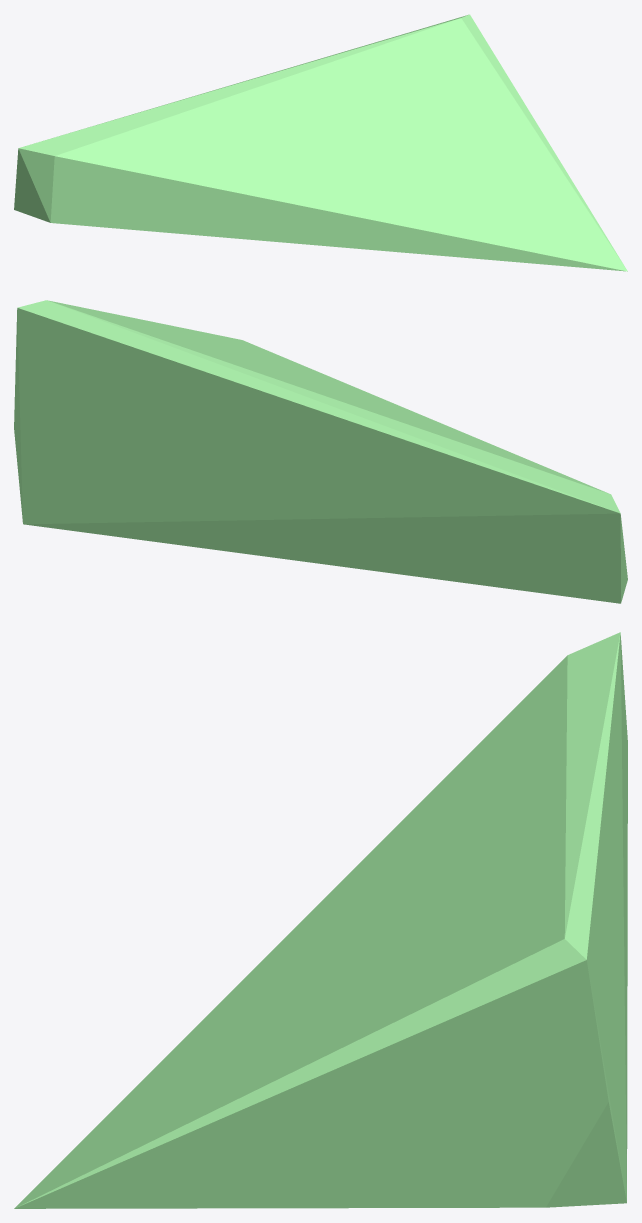
Rendered from UMIRobot_robot_base_coll_12.dae.
3 views of the same model, one above another, from view 1: azimuth 30°, elevation 25°; view 2: azimuth 150°, elevation 25°; view 3: azimuth 270°, elevation 25° (orthographic). The views are drawn at different scales.
Visible parts, largest first — view 1: node; view 2: node; view 3: node.
Part boxes in pixels (left/top/right/bottom): node: left=14, top=14, right=627, bottom=271; node: left=14, top=300, right=627, bottom=603; node: left=14, top=632, right=627, bottom=1208.
Bounding box in the file's own units: 0.0521 × 0.0166 × 0.0348.
